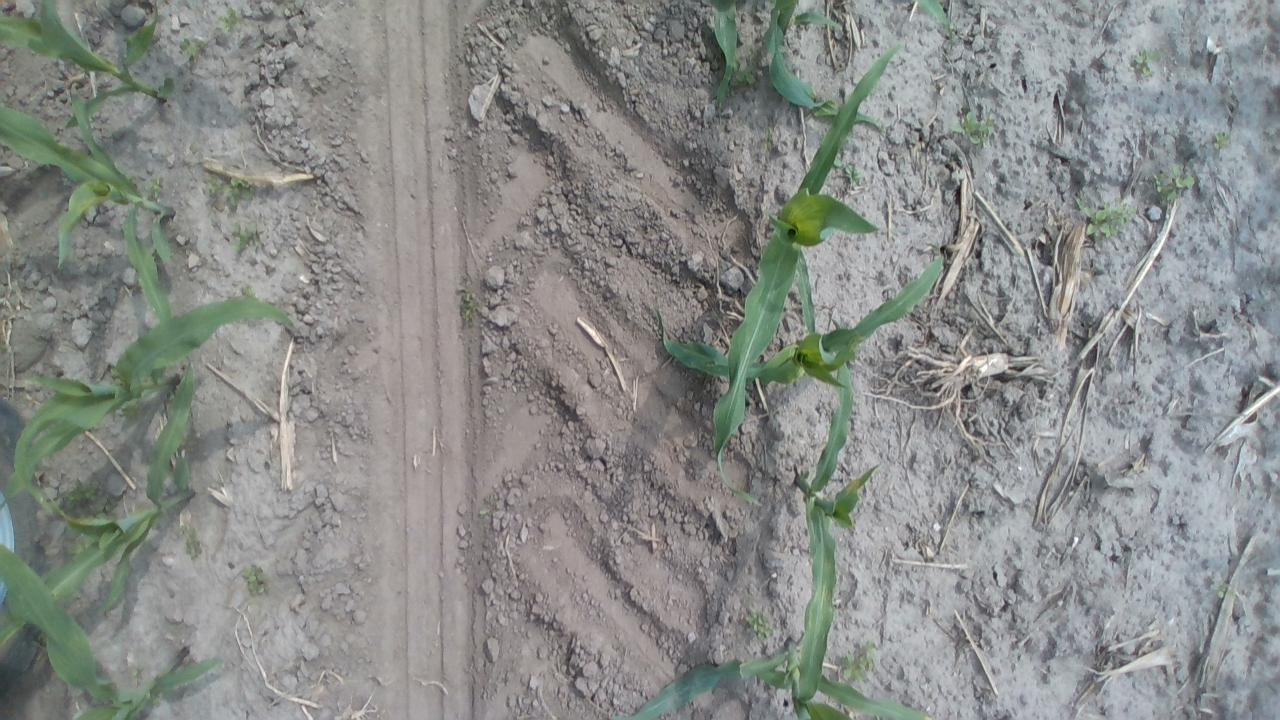Maize: (706, 40, 910, 507), (0, 295, 305, 507), (0, 359, 200, 669), (644, 229, 956, 394), (0, 83, 180, 335), (0, 539, 223, 720), (784, 353, 886, 713), (605, 635, 956, 720), (696, 0, 890, 139), (0, 0, 179, 123), (916, 0, 954, 46)
Weeds: (1074, 196, 1139, 243), (54, 481, 120, 516), (202, 176, 260, 212), (1149, 162, 1196, 204), (838, 639, 884, 681), (452, 286, 482, 336), (741, 603, 774, 645), (950, 113, 994, 144), (475, 489, 505, 529), (242, 564, 271, 602), (1131, 44, 1160, 81), (178, 36, 209, 66), (177, 522, 200, 560), (834, 158, 867, 184), (737, 54, 761, 89), (230, 224, 262, 247), (218, 8, 245, 32), (1212, 579, 1238, 602), (146, 177, 168, 198), (1209, 131, 1231, 150), (237, 284, 260, 300)
